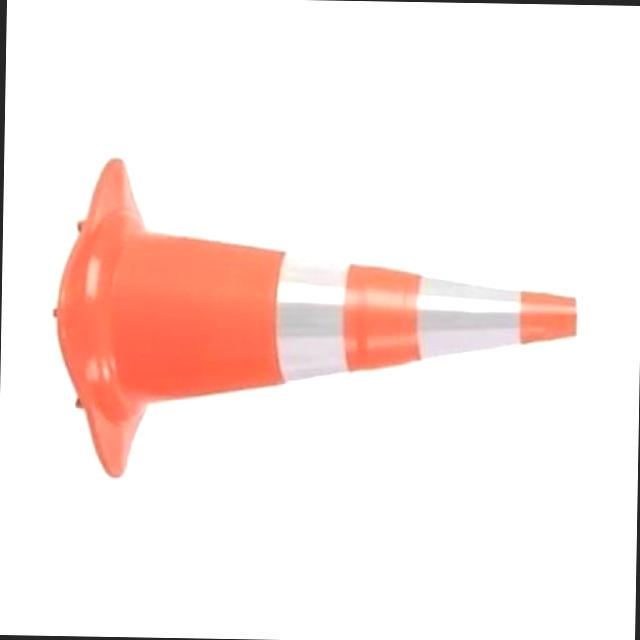cone: (52, 143, 592, 480)
